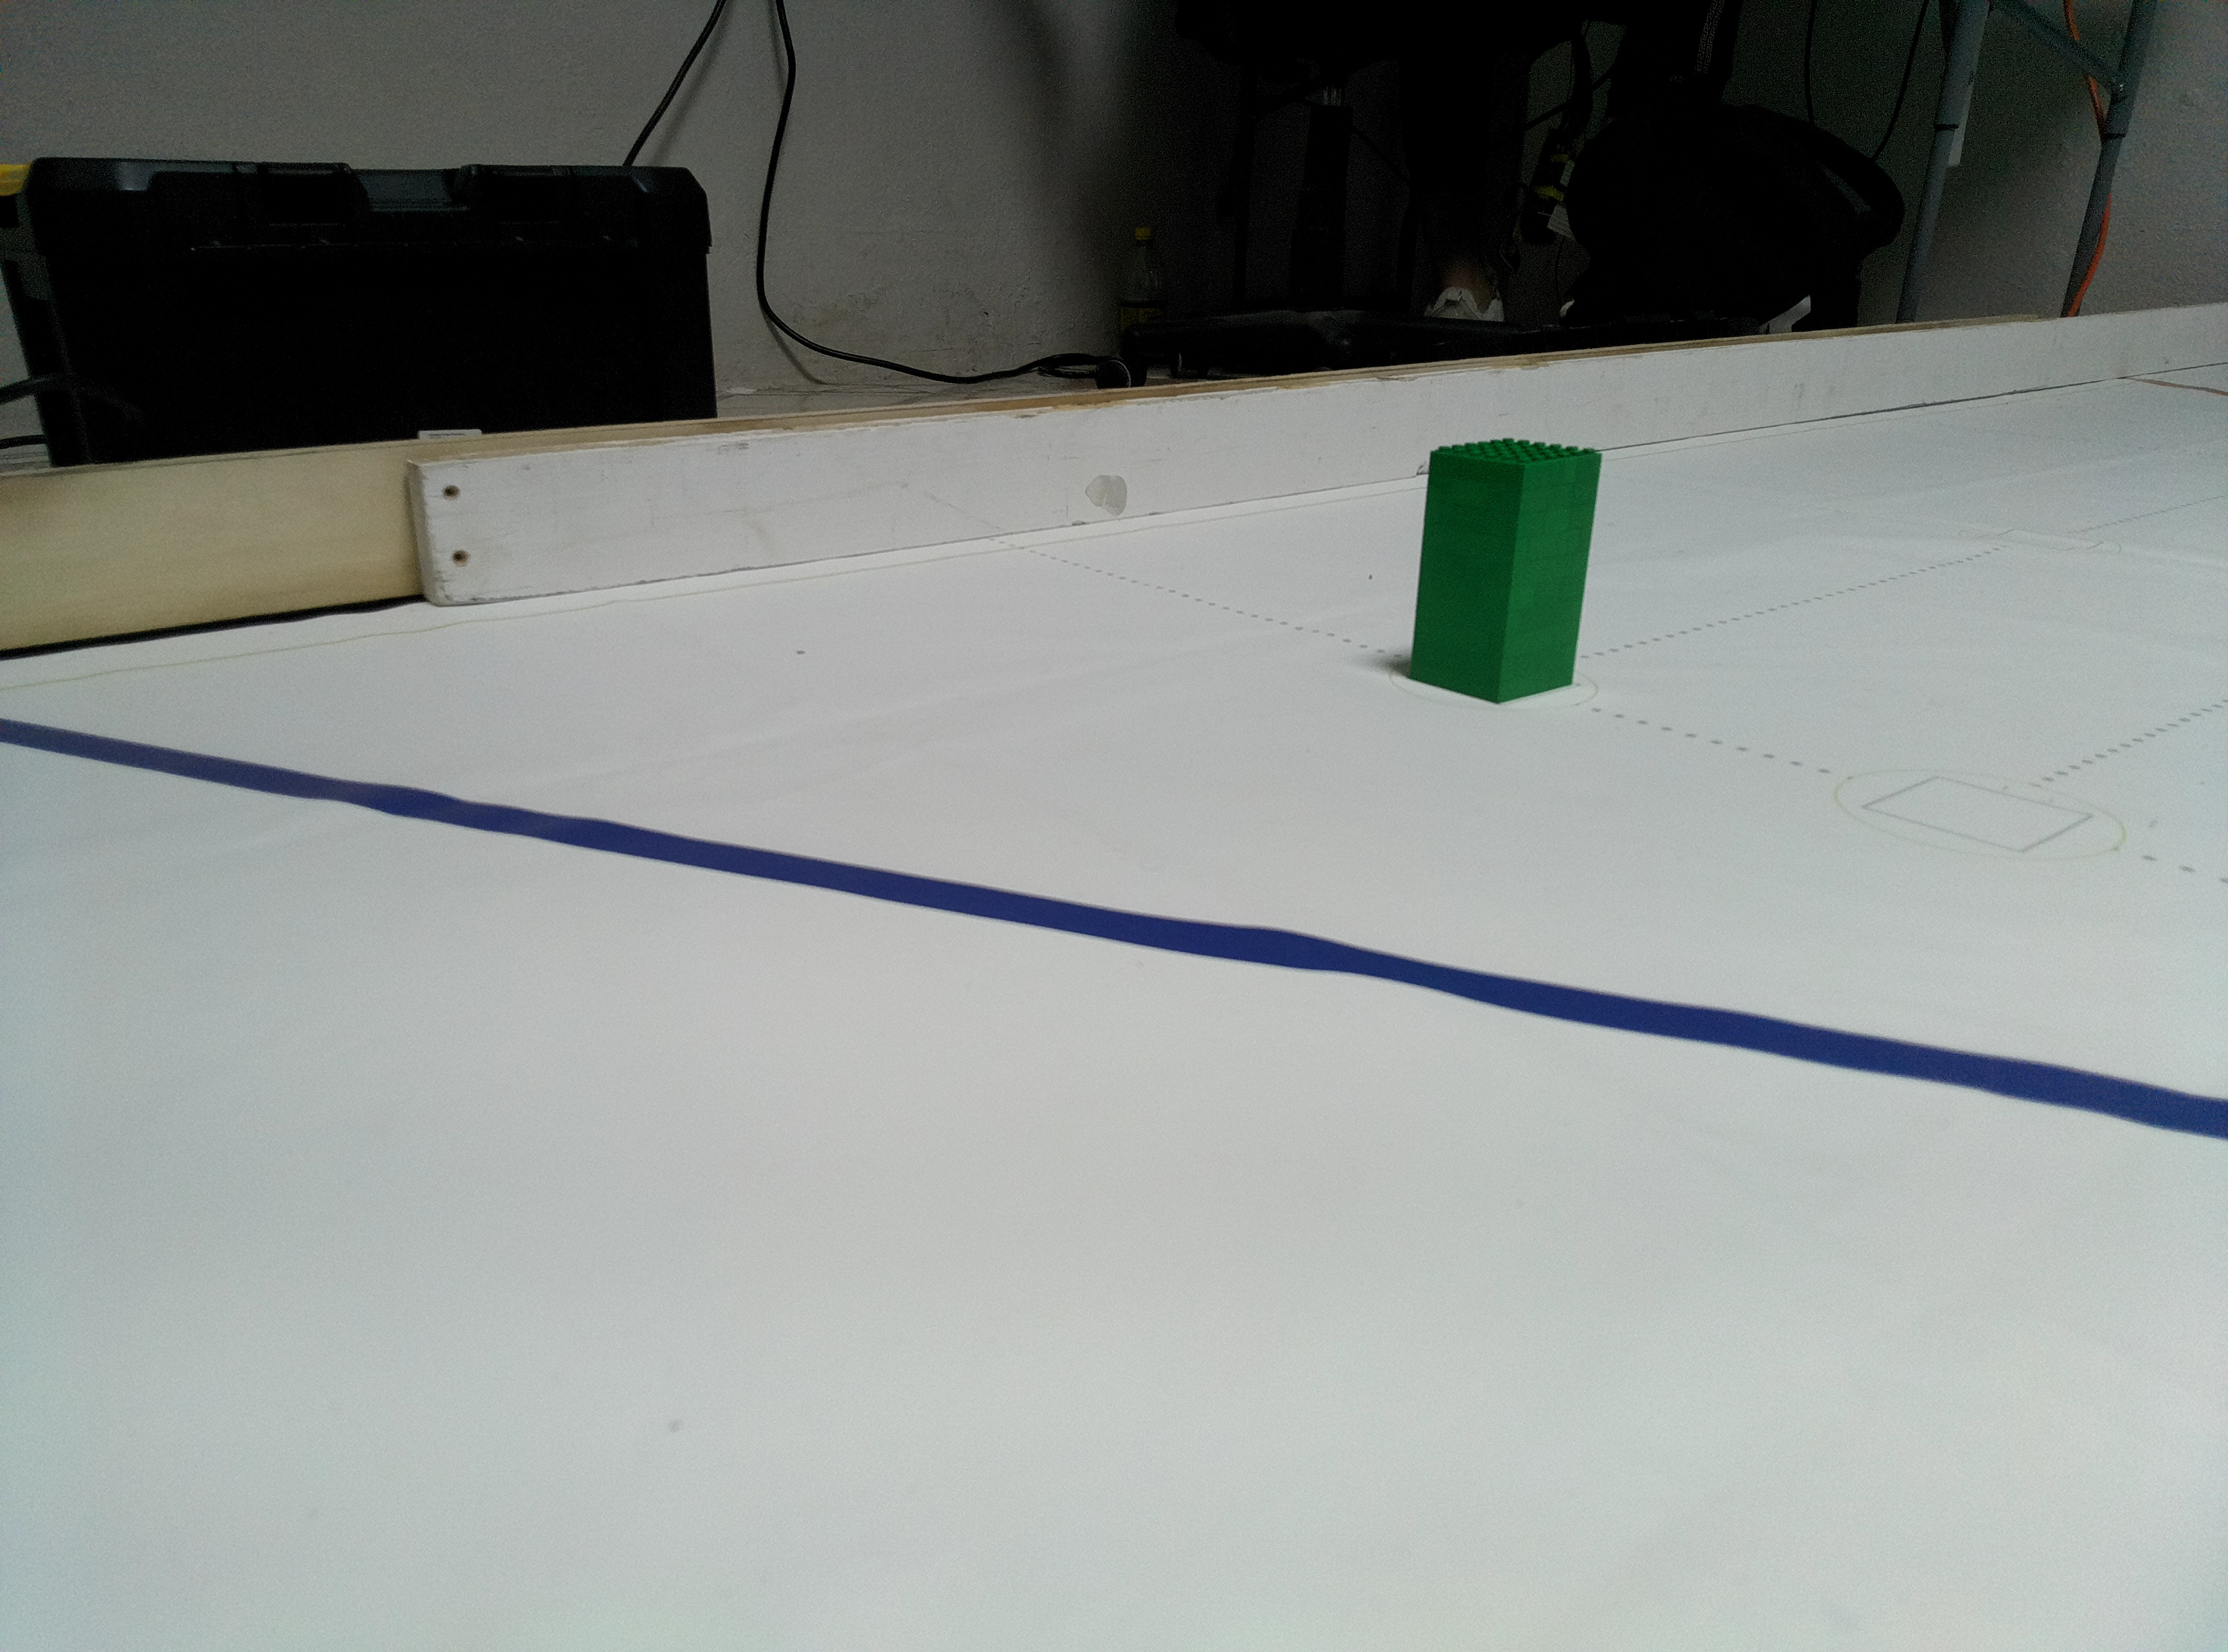greenbox: (1406, 432, 1605, 708)
